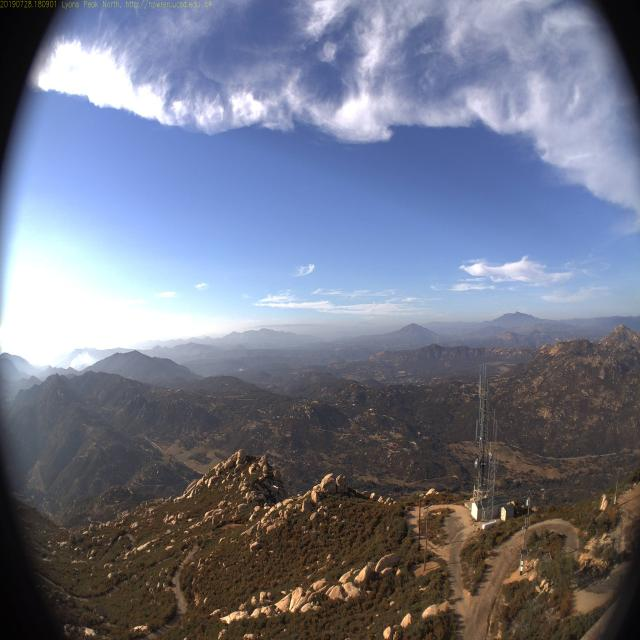smoke: (63, 344, 100, 378)
